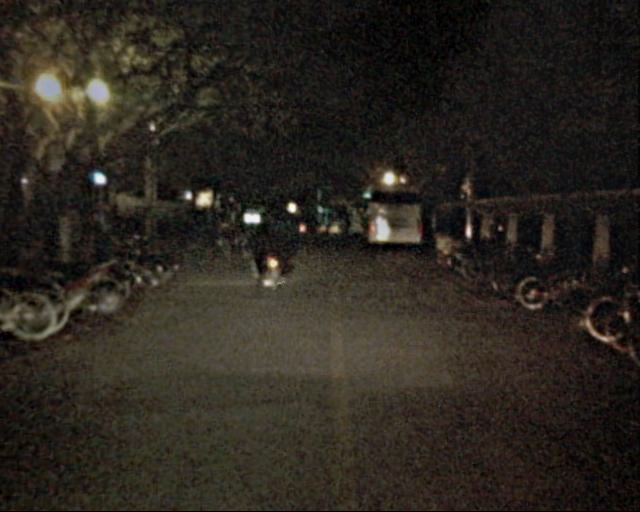person: (251, 212, 280, 283), (214, 216, 237, 268), (333, 214, 351, 241)
